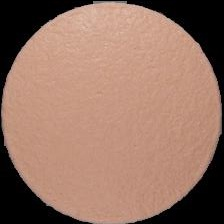0615-8032: (0, 0, 224, 224)
